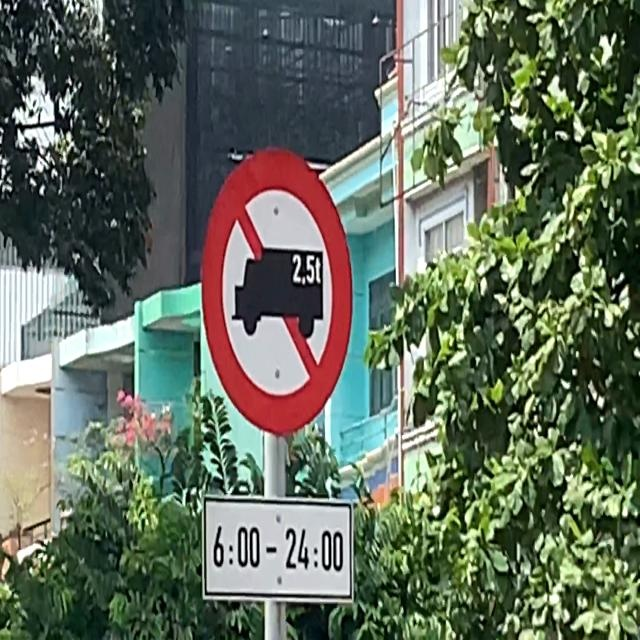bien_cam: (200, 128, 363, 441)
